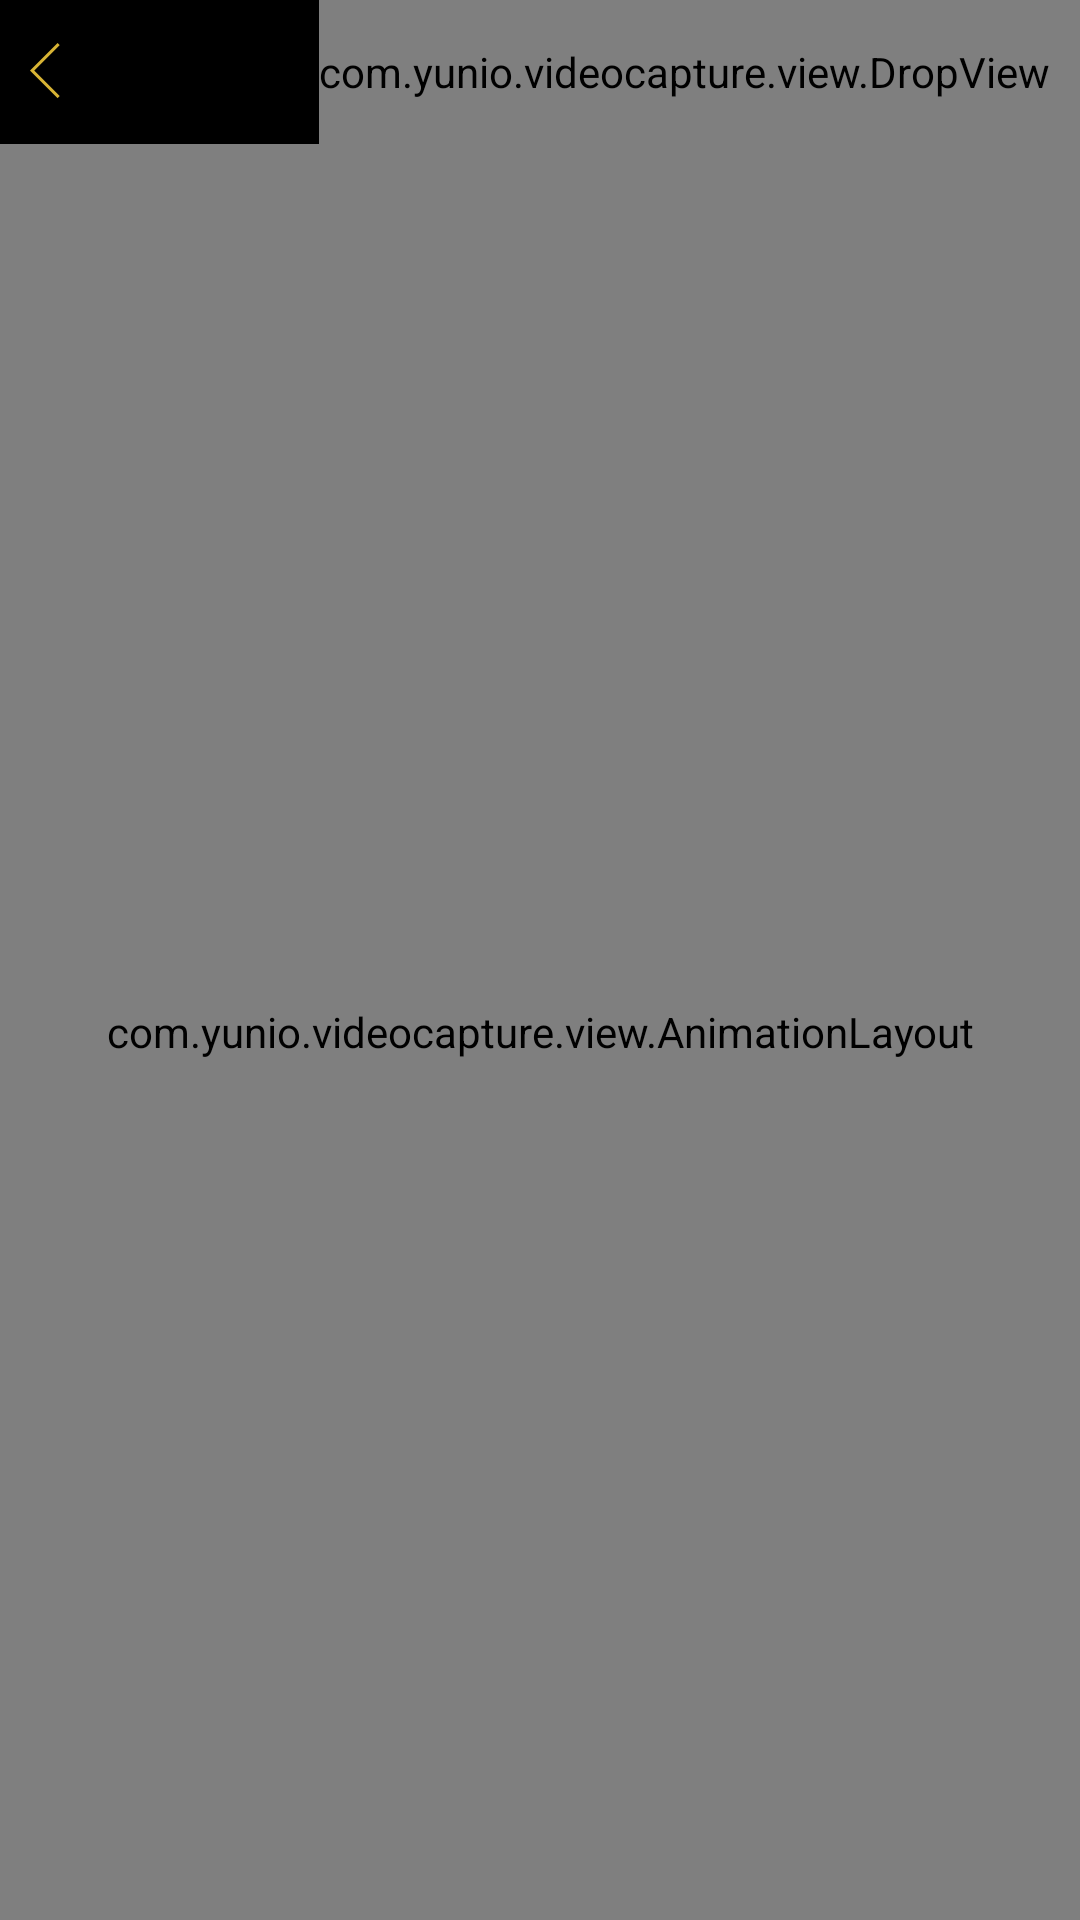

Screen size 1080×1920. Icon name, then its center in pixels as (x=x, y=y):
back: (x=45, y=70)
